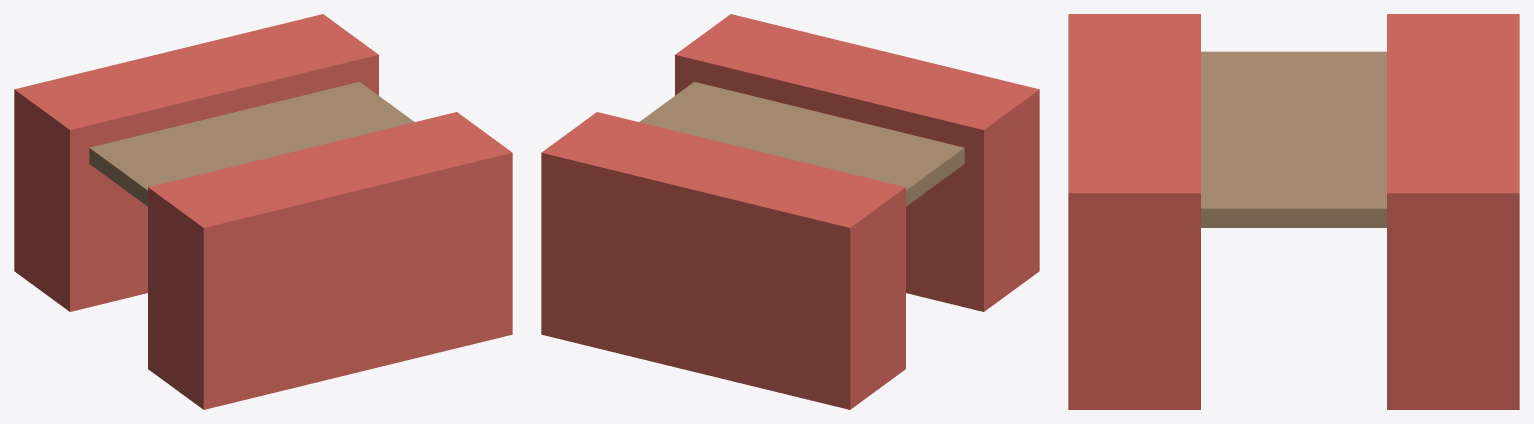
The model's file is booth_seating.glb.
3 renders of one model, left to right at view 1: azimuth 30°, elevation 25°; view 2: azimuth 150°, elevation 25°; view 3: azimuth 270°, elevation 25°, orthographic. The views are drawn at different scales.
Parts seen in each view (by area): view 1: bench2, bench1, table; view 2: bench1, bench2, table; view 3: bench1, bench2, table.
Boxes of the visible parts, x1,y1,x2,y2 form: bench2: (148, 112, 512, 409); bench1: (14, 14, 378, 311); table: (89, 82, 414, 206); bench1: (541, 112, 905, 409); bench2: (675, 14, 1039, 311); table: (639, 82, 964, 206); bench1: (1387, 14, 1519, 409); bench2: (1068, 14, 1200, 409); table: (1201, 51, 1386, 227).
Size of the model in its own units: 1.6 by 0.9004 by 1.7.
